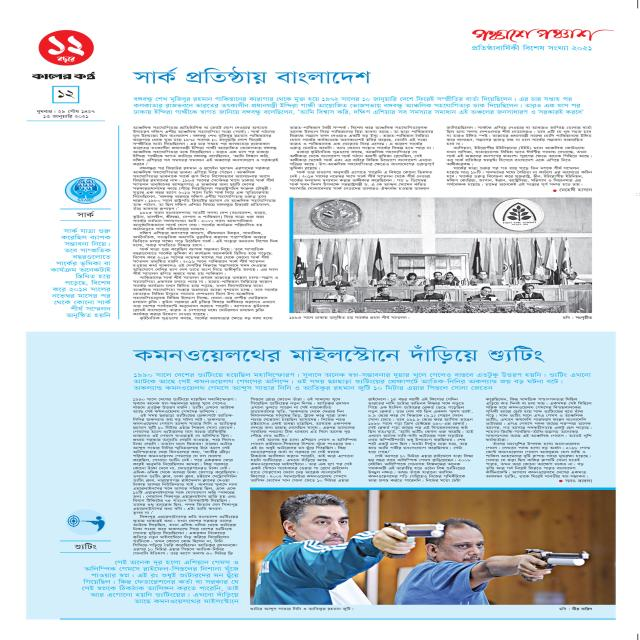caption: (247, 606, 357, 613)
image: (248, 489, 617, 605), (293, 198, 595, 313), (40, 30, 93, 65), (65, 177, 105, 203), (63, 511, 109, 532)
page number: (55, 87, 78, 101)
paragraph: (131, 400, 240, 514), (133, 211, 277, 274), (287, 124, 436, 170), (131, 166, 277, 210), (130, 274, 280, 316), (366, 396, 476, 452), (130, 124, 280, 165), (48, 227, 114, 320), (484, 396, 595, 441), (249, 437, 357, 483), (130, 514, 240, 556), (129, 246, 280, 276), (249, 396, 355, 437), (484, 442, 593, 481), (444, 165, 596, 192), (366, 454, 475, 484), (288, 170, 435, 192), (445, 124, 595, 145), (131, 210, 268, 231), (444, 145, 594, 164), (131, 231, 276, 247), (138, 316, 273, 322)
text: (117, 94, 589, 118), (136, 370, 594, 393), (79, 558, 242, 606), (468, 43, 596, 54), (64, 511, 108, 532), (27, 71, 99, 81), (289, 315, 407, 321), (34, 108, 97, 119), (555, 606, 595, 612), (558, 479, 594, 484), (560, 315, 593, 320), (75, 211, 96, 218)
title: (139, 343, 569, 366), (130, 64, 375, 88), (465, 24, 605, 45), (70, 542, 101, 551)
